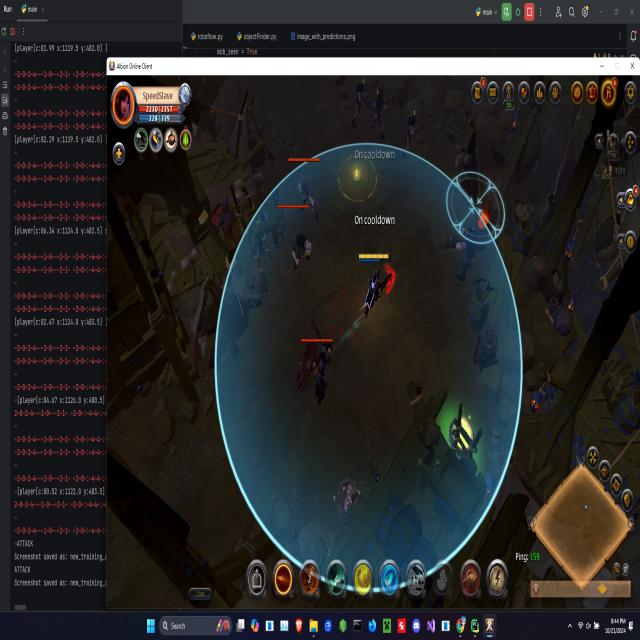fiber: (445, 402, 480, 466)
ore: (438, 205, 495, 288), (294, 332, 338, 409), (275, 195, 318, 273), (286, 154, 326, 225), (369, 83, 392, 140), (349, 77, 369, 130), (400, 104, 423, 150)
red: (354, 248, 395, 324)
